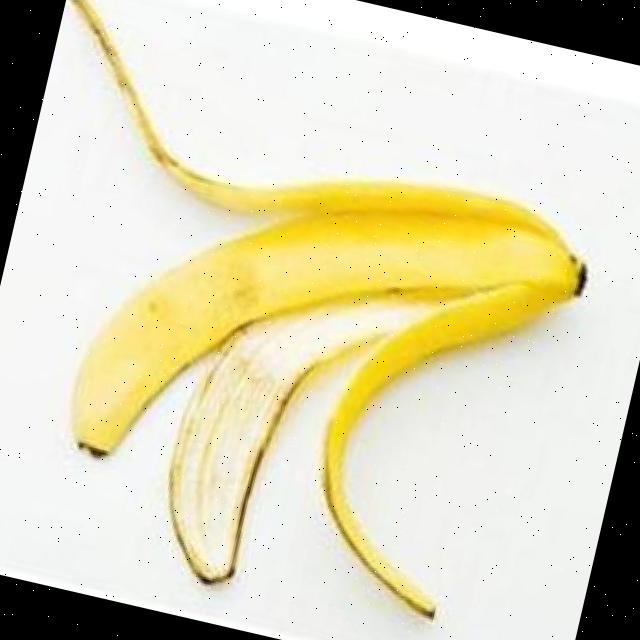banana-peel: (34, 109, 600, 640)
